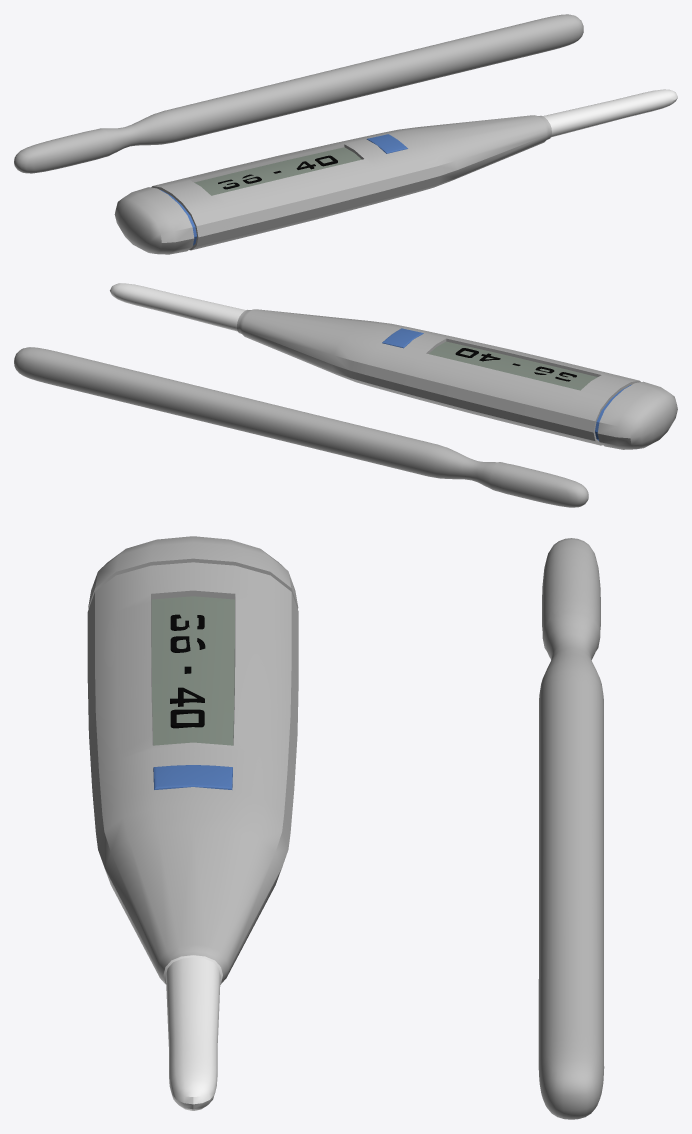
The model's file is termo_meter.glb.
3 views of the same model, one above another, from view 1: azimuth 30°, elevation 25°; view 2: azimuth 150°, elevation 25°; view 3: azimuth 270°, elevation 25° (orthographic). The views are drawn at different scales.
Parts seen in each view (by area): view 1: termo_merter_digital, terom_metet, typeMesh1; view 2: termo_merter_digital, terom_metet, typeMesh1; view 3: termo_merter_digital, terom_metet, typeMesh1.
Part boxes in pixels (<box>): termo_merter_digital: <box>114,89,677,254</box>; terom_metet: <box>14,14,583,173</box>; typeMesh1: <box>218,155,337,189</box>; termo_merter_digital: <box>110,283,677,449</box>; terom_metet: <box>14,347,588,507</box>; typeMesh1: <box>455,348,576,381</box>; termo_merter_digital: <box>87,536,298,1110</box>; terom_metet: <box>538,538,604,1119</box>; typeMesh1: <box>170,614,205,728</box>.
Bounding box in the file's own units: 0.1379 × 0.0114 × 0.0543.
